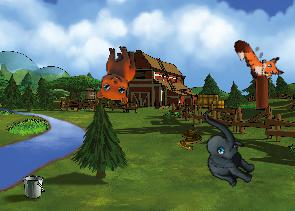bear: (94, 45, 136, 103)
elephant: (182, 112, 269, 192)
fox: (230, 27, 287, 89)
